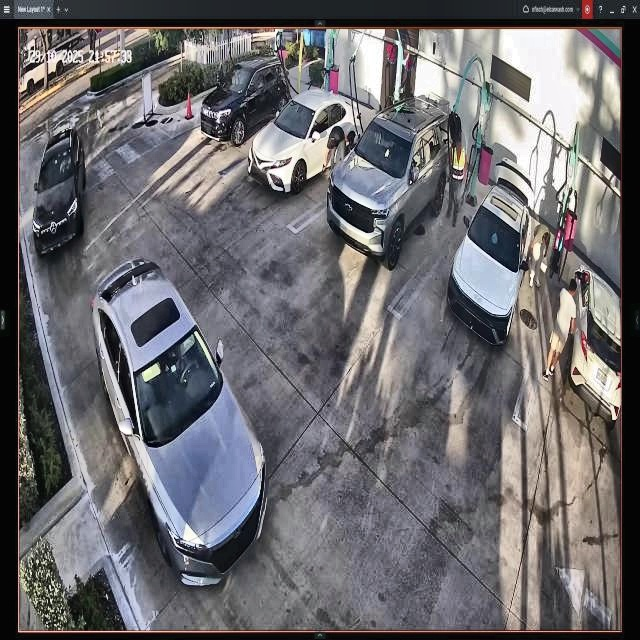Car: (93, 261, 268, 589), (326, 96, 449, 268), (451, 159, 534, 346), (252, 88, 358, 198), (202, 60, 287, 152)
